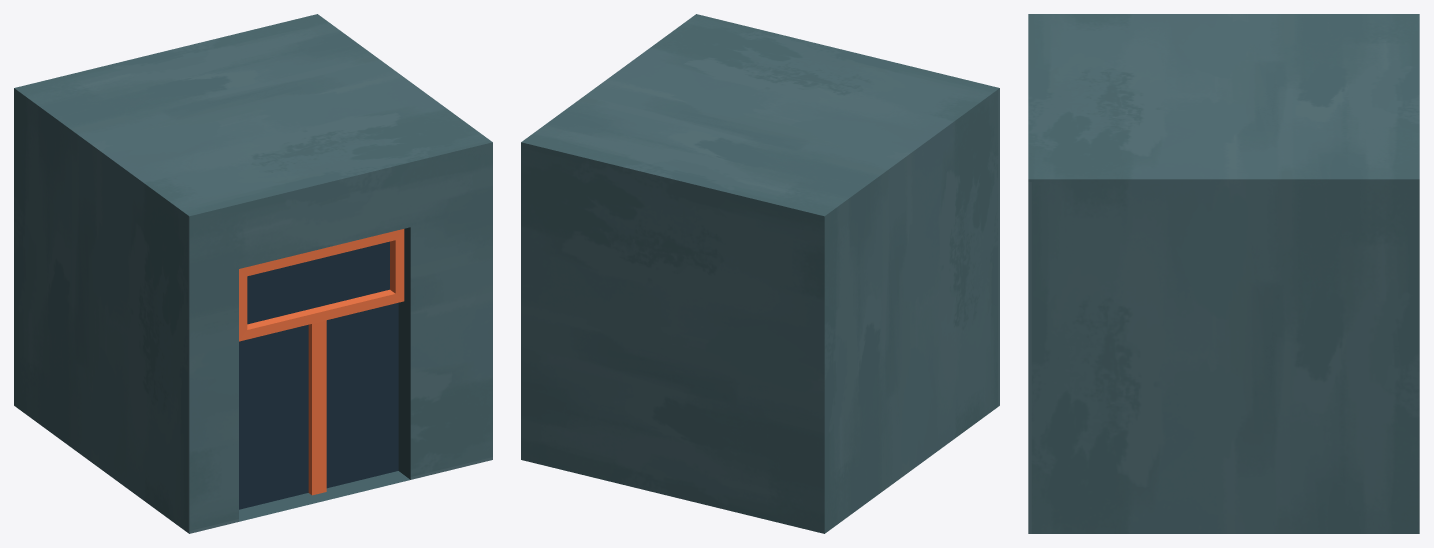
The model's file is m_block_big_window.FBX.
3 renders of one model, left to right at view 1: azimuth 30°, elevation 25°; view 2: azimuth 150°, elevation 25°; view 3: azimuth 270°, elevation 25°, orthographic. The views are drawn at different scales.
Visible parts, largest first — view 1: block_big_window; view 2: block_big_window; view 3: block_big_window.
Part boxes in pixels (x1=…): block_big_window: x1=14, y1=14, x2=492, y2=533; block_big_window: x1=521, y1=14, x2=999, y2=533; block_big_window: x1=1028, y1=14, x2=1419, y2=533.
Size of the model in its own units: 100 by 100 by 100.
